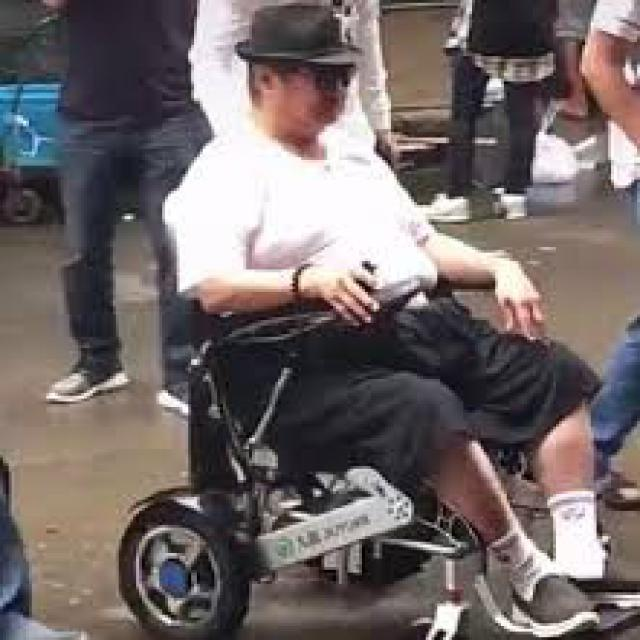wheelchairs: (107, 228, 553, 638)
